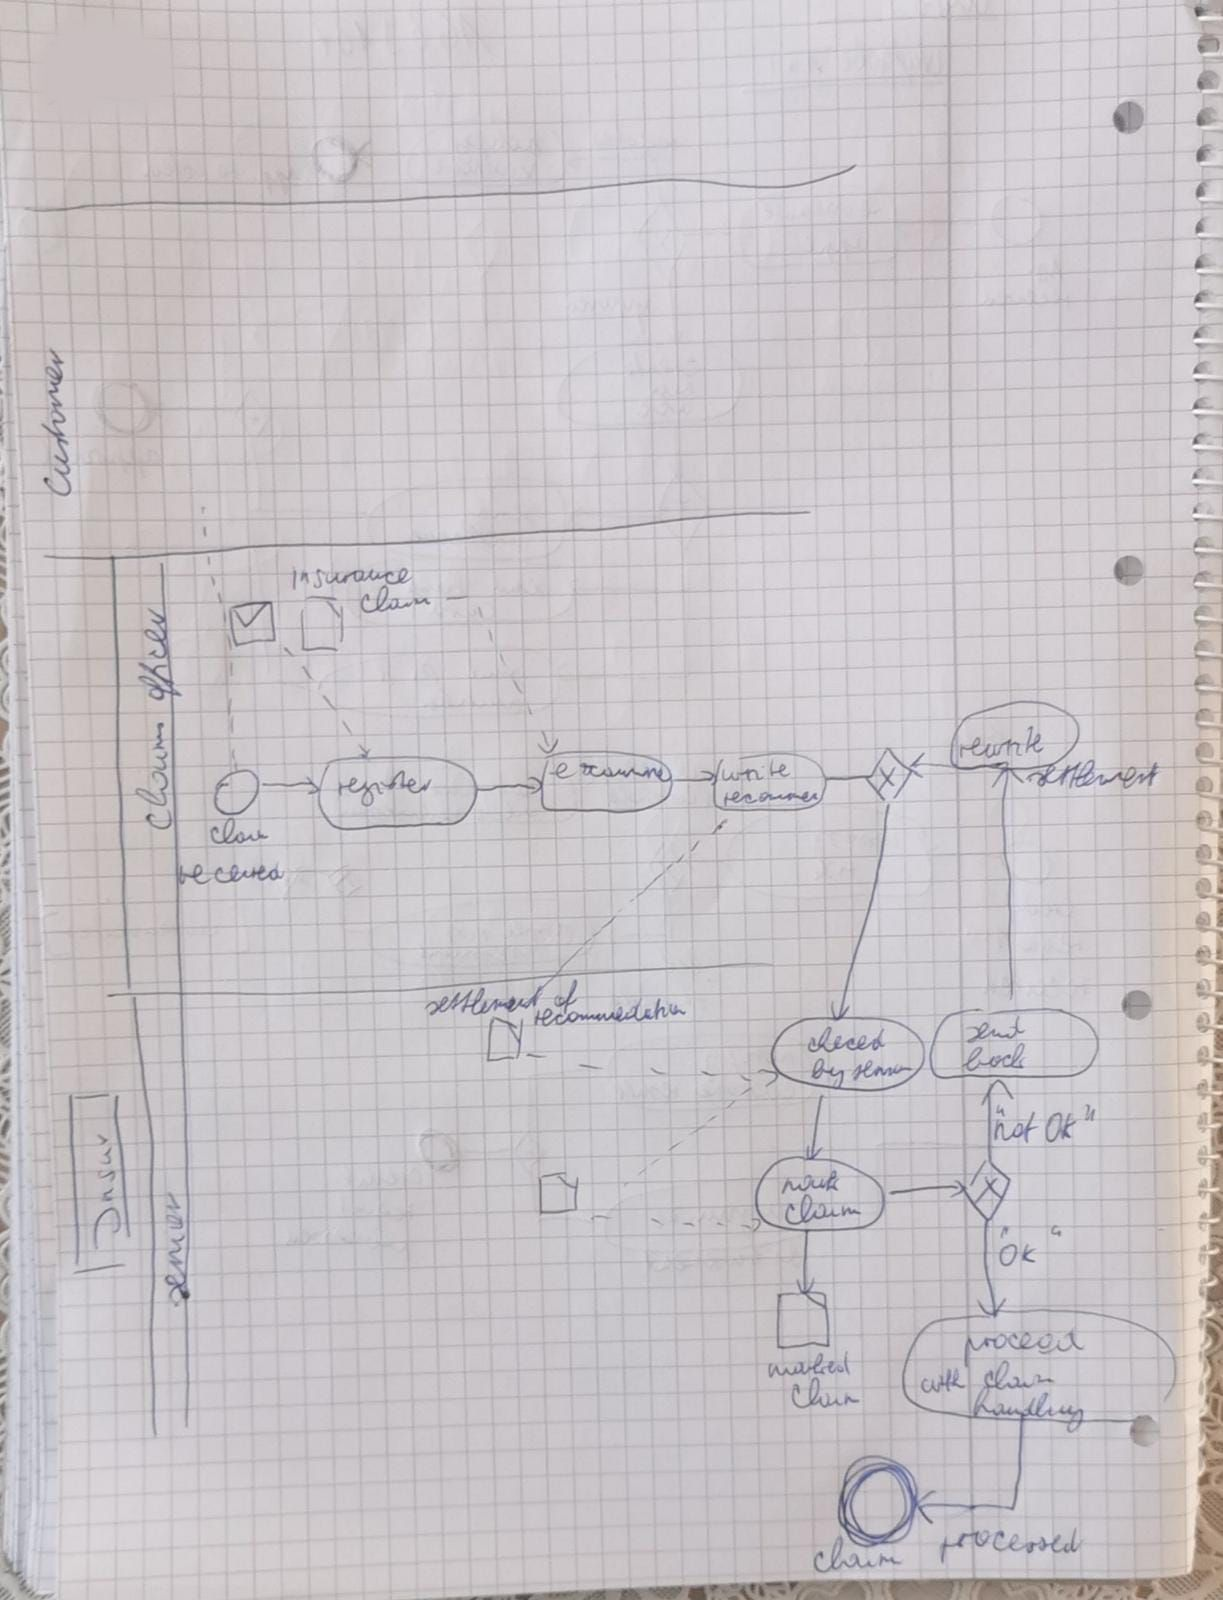Customer: (33, 342, 78, 503)
Insur: (84, 1120, 130, 1261)
OK: (990, 1219, 1074, 1278)
Ok: (1041, 1100, 1101, 1149)
by: (805, 1056, 850, 1095)
checked: (800, 1021, 892, 1059)
claim: (127, 714, 180, 837), (805, 1529, 912, 1579), (779, 1189, 868, 1231), (785, 1373, 868, 1416), (353, 580, 439, 620), (978, 1356, 1062, 1395), (202, 812, 277, 851)
examine: (542, 758, 677, 788)
handling: (965, 1380, 1091, 1439)
insurance: (285, 562, 420, 595)
lock: (955, 1038, 1038, 1077)
mark: (775, 1163, 847, 1202)
marked: (758, 1344, 856, 1386)
not: (987, 1100, 1044, 1151)
of: (547, 976, 588, 1020)
officer: (130, 598, 189, 708)
proceed: (958, 1323, 1089, 1374)
processed: (934, 1520, 1086, 1572)
received: (170, 854, 290, 892)
recommedation: (525, 991, 692, 1034)
recommer: (717, 786, 826, 810)
register: (329, 765, 438, 812)
rewrite: (951, 720, 1052, 767)
senior: (155, 1187, 198, 1312), (845, 1054, 917, 1085)
sent: (957, 1011, 1032, 1050)
settlement: (1017, 752, 1169, 796), (418, 980, 549, 1025)
with: (913, 1364, 970, 1400)
write: (716, 756, 796, 788)
